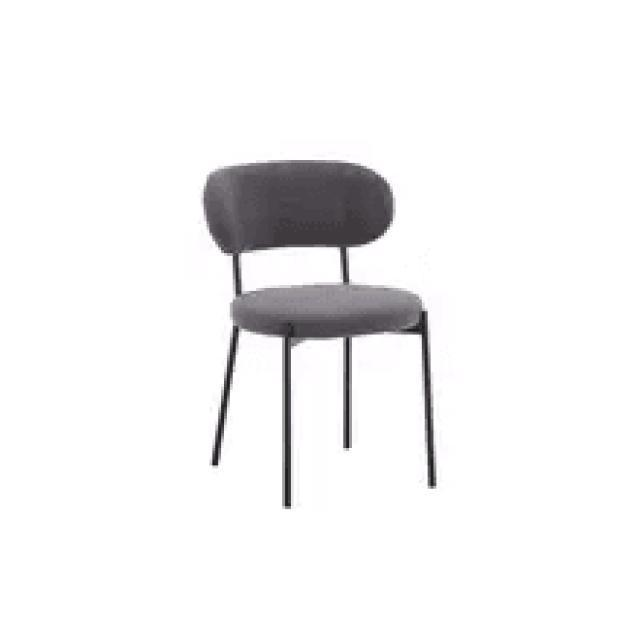chair: (200, 152, 446, 512), (196, 150, 430, 363)
